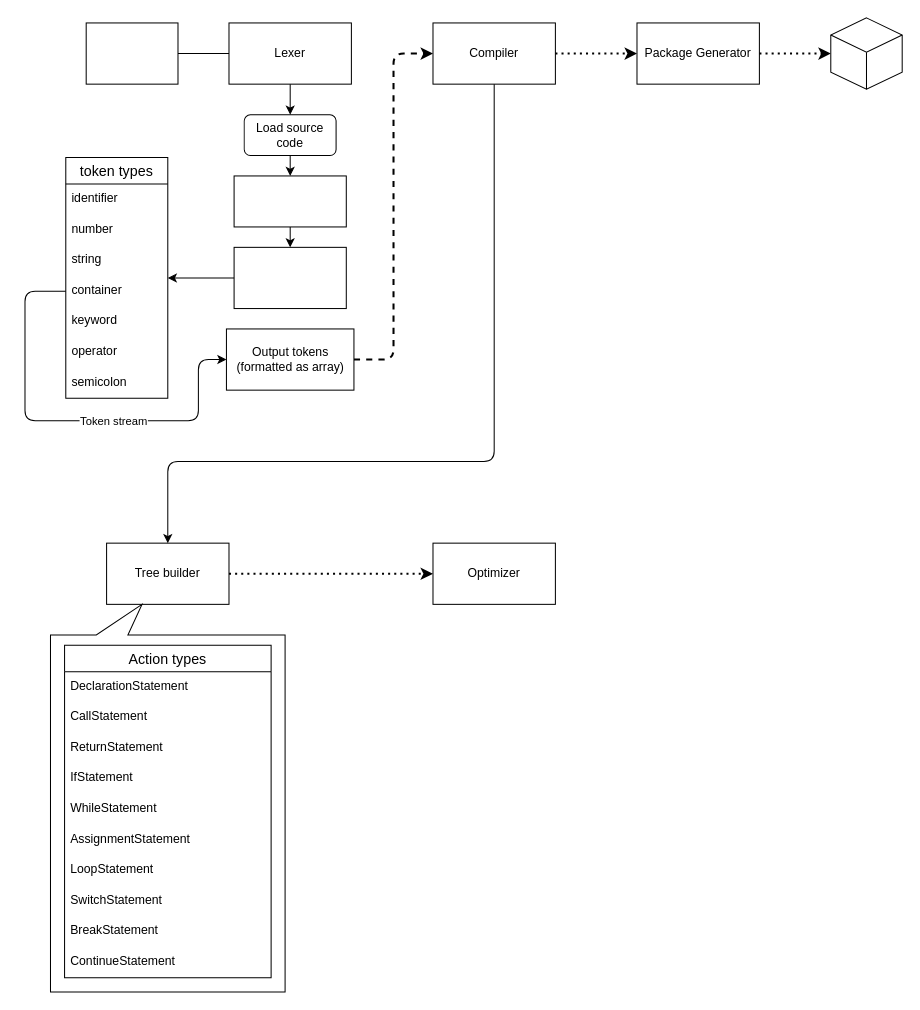
This 920x1010 diagram has some shape labels left out. Here are the shapes that lost their labels. From the top down, the box of each, then its label:
(85, 22, 178, 84): Carbon Compiler
(830, 17, 902, 89): Target .cbpkg
(233, 175, 346, 227): Remove comments
(233, 246, 346, 309): Split into tokens
